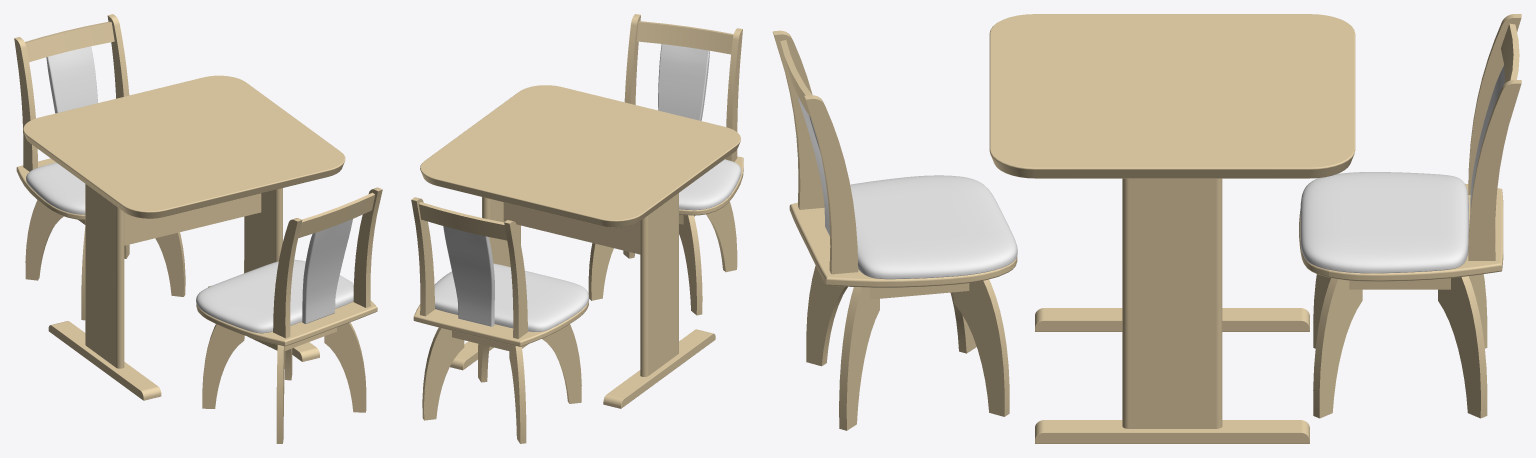
The model's file is 059_ダイニングテーブルセット.glb.
3 views of the same model, side by side, from view 1: azimuth 30°, elevation 25°; view 2: azimuth 150°, elevation 25°; view 3: azimuth 270°, elevation 25° (orthographic). The views are drawn at different scales.
Parts seen in each view (by area): view 1: 057_テーブル, 058_椅子2, 058_椅子1; view 2: 057_テーブル, 058_椅子1, 058_椅子2; view 3: 057_テーブル, 058_椅子2, 058_椅子1.
Boxes of the visible parts, bbox=[...] form: 057_テーブル: bbox=[23, 75, 345, 400]; 058_椅子2: bbox=[196, 187, 382, 443]; 058_椅子1: bbox=[14, 14, 185, 320]; 057_テーブル: bbox=[420, 85, 740, 408]; 058_椅子1: bbox=[411, 197, 589, 443]; 058_椅子2: bbox=[588, 14, 743, 315]; 057_テーブル: bbox=[989, 14, 1355, 443]; 058_椅子2: bbox=[772, 30, 1017, 430]; 058_椅子1: bbox=[1299, 14, 1521, 418].
Bounding box in the file's own units: 0.7974 × 0.8011 × 1.63.
